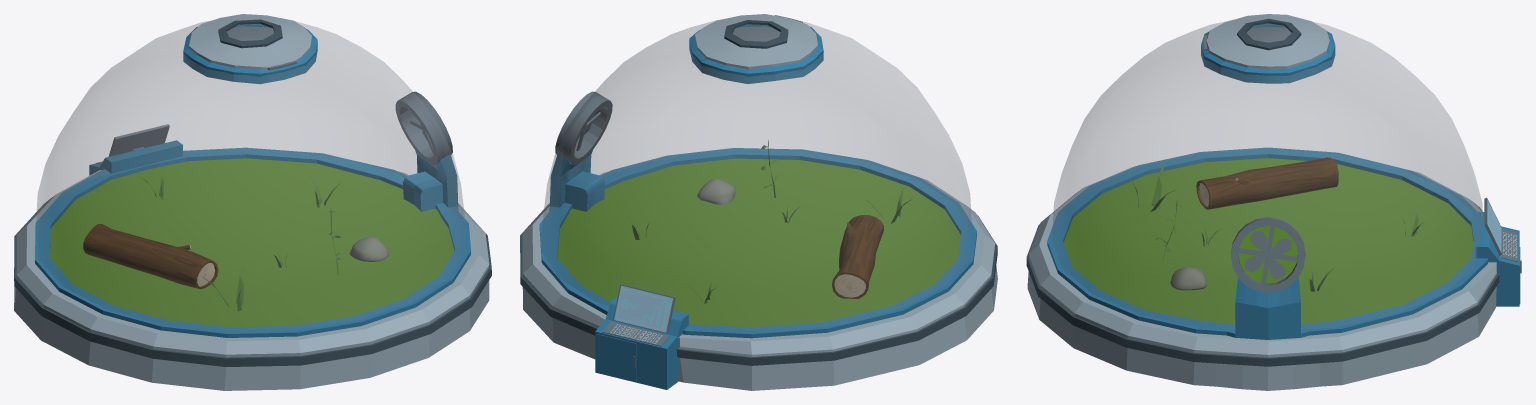
File: Project 2.fbx
3 views of the same model, side by side, from view 1: azimuth 30°, elevation 25°; view 2: azimuth 150°, elevation 25°; view 3: azimuth 270°, elevation 25° (orthographic).
Visible parts, largest first — view 1: pSphere1, pCylinder3, pCube5, pCylinder4, pCube3, pCube6; view 2: pSphere1, pCylinder3, pCube5, pCube3, pCylinder4, pCube6; view 3: pSphere1, pCylinder3, pCube5, pCylinder4, pCube3, pCube4, pCube6.
Boxes of the visible parts, bbox=[...] form: pSphere1: bbox=[36, 21, 465, 331]; pCylinder3: bbox=[14, 91, 491, 390]; pCube5: bbox=[183, 14, 317, 84]; pCylinder4: bbox=[83, 224, 218, 289]; pCube3: bbox=[89, 124, 182, 175]; pCube6: bbox=[349, 236, 389, 261]; pSphere1: bbox=[542, 20, 971, 331]; pCylinder3: bbox=[520, 91, 997, 390]; pCube5: bbox=[689, 14, 823, 83]; pCube3: bbox=[595, 284, 688, 389]; pCylinder4: bbox=[832, 215, 883, 298]; pCube6: bbox=[697, 179, 735, 204]; pSphere1: bbox=[1052, 20, 1483, 329]; pCylinder3: bbox=[1026, 147, 1499, 390]; pCube5: bbox=[1201, 14, 1335, 83]; pCylinder4: bbox=[1196, 157, 1338, 209]; pCube3: bbox=[1475, 197, 1521, 306]; pCube4: bbox=[1244, 231, 1291, 279]; pCube6: bbox=[1170, 266, 1206, 290].
Size of the model in its own units: 7.74 by 4.54 by 7.92.
2 materials, 1 textured.
